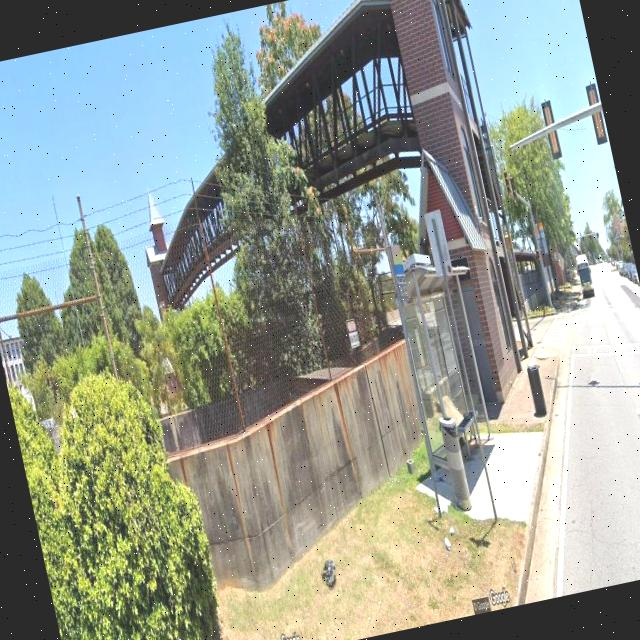seating: (453, 407, 486, 458)
shelter: (388, 253, 492, 496)
trash_can: (436, 413, 474, 512), (526, 363, 550, 418)
